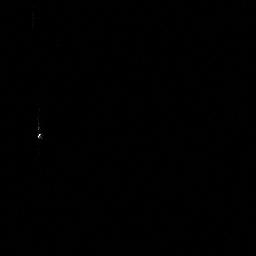ship: (36, 115, 45, 143)
